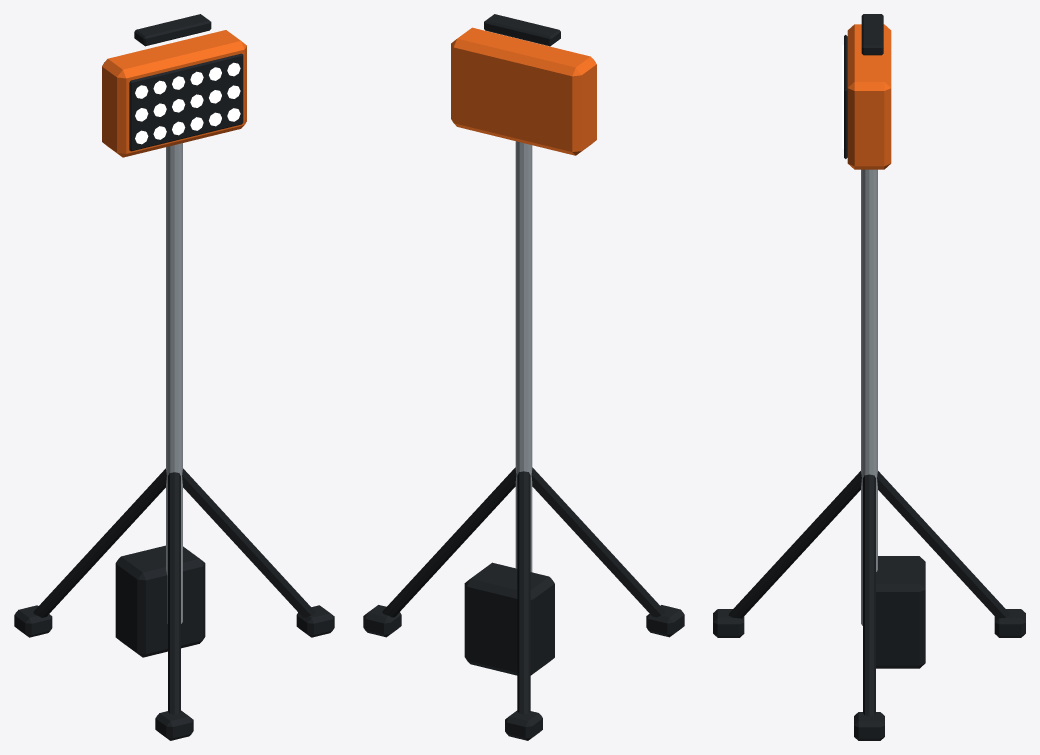
File: emergency_tripod_light.glb
3 views of the same model, side by side, from view 1: azimuth 30°, elevation 25°; view 2: azimuth 150°, elevation 25°; view 3: azimuth 270°, elevation 25° (orthographic).
Visible parts, largest first — view 1: emergency_tripod_light__m7_dark_polymer, emergency_tripod_light__m7_safety_orange, emergency_tripod_light__m7_galvanised_steel, emergency_tripod_light__m7_warm_led; view 2: emergency_tripod_light__m7_dark_polymer, emergency_tripod_light__m7_safety_orange, emergency_tripod_light__m7_galvanised_steel; view 3: emergency_tripod_light__m7_dark_polymer, emergency_tripod_light__m7_safety_orange, emergency_tripod_light__m7_galvanised_steel.
Boxes of the visible parts, <box> form: emergency_tripod_light__m7_dark_polymer: <box>14,14,334,740</box>; emergency_tripod_light__m7_safety_orange: <box>102,30,246,157</box>; emergency_tripod_light__m7_galvanised_steel: <box>166,143,182,623</box>; emergency_tripod_light__m7_warm_led: <box>135,62,240,144</box>; emergency_tripod_light__m7_dark_polymer: <box>363,14,684,740</box>; emergency_tripod_light__m7_safety_orange: <box>451,27,596,155</box>; emergency_tripod_light__m7_galvanised_steel: <box>515,141,532,572</box>; emergency_tripod_light__m7_dark_polymer: <box>713,14,1025,740</box>; emergency_tripod_light__m7_safety_orange: <box>847,24,891,169</box>; emergency_tripod_light__m7_galvanised_steel: <box>861,169,877,625</box>.
Bounding box in the file's own units: 0.88 × 2.25 × 1.
